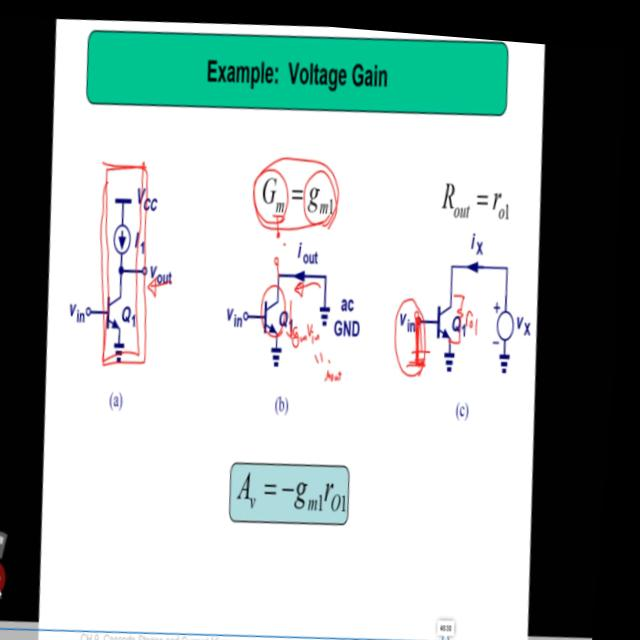panseo: (236, 121, 363, 243), (384, 270, 492, 385), (288, 314, 353, 383)
